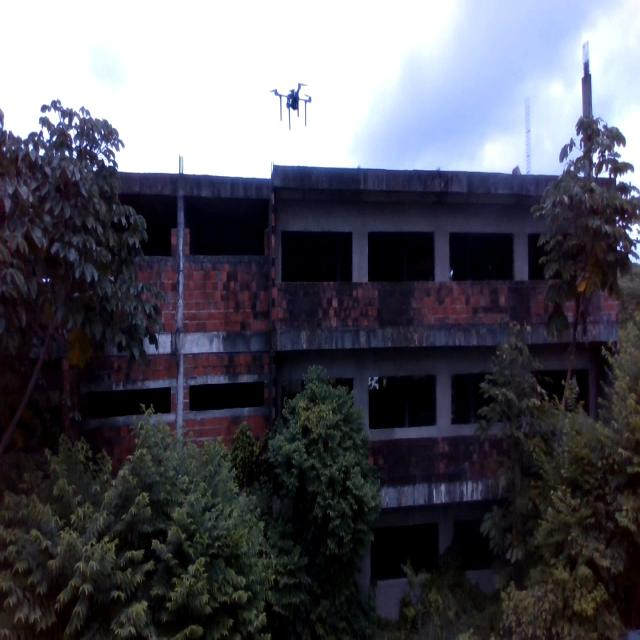-uav-: (272, 78, 312, 138)
